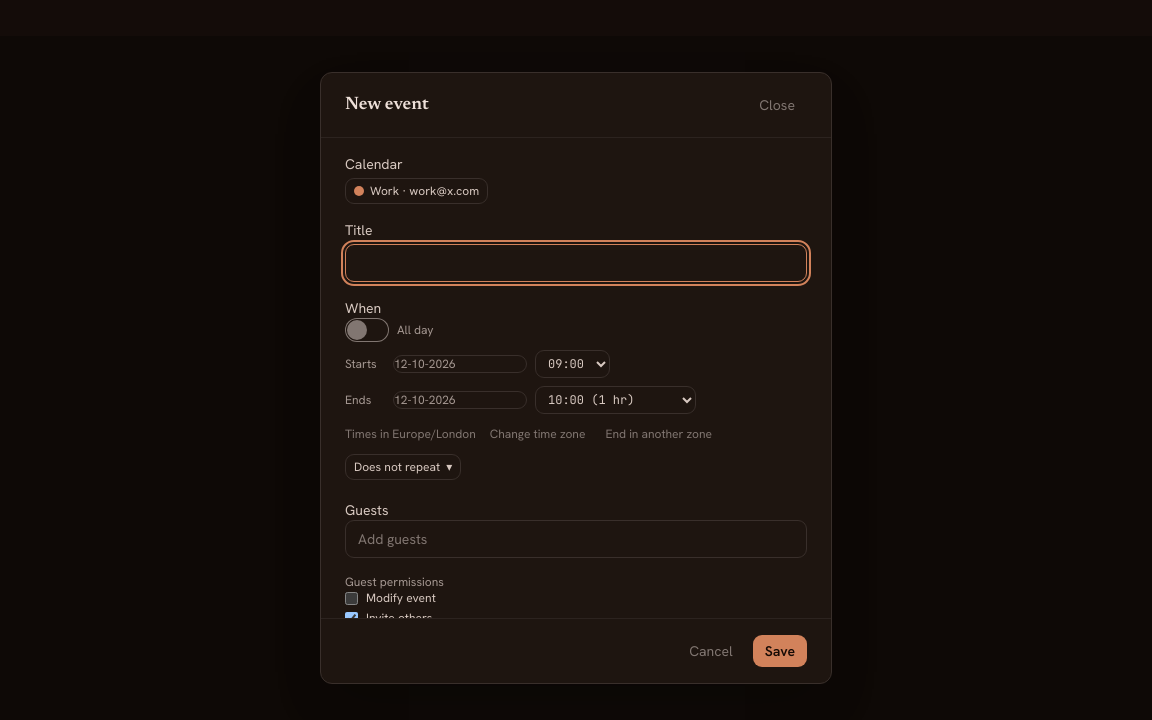
Test case: NewEventEditor › a handed-over range keeps its length through All day and back
Step 1. Click the switch named "All day" → (367, 330), box [345,318,389,342]
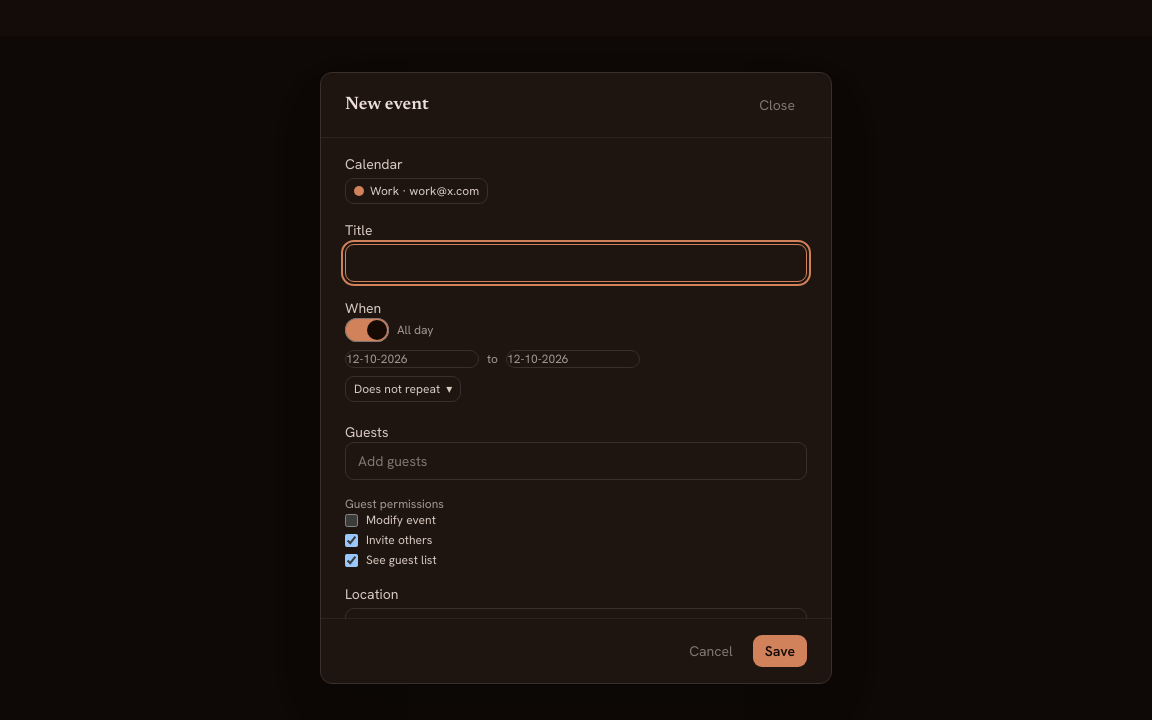
Step 2. Click the switch named "All day" → (367, 330), box [345,318,389,342]
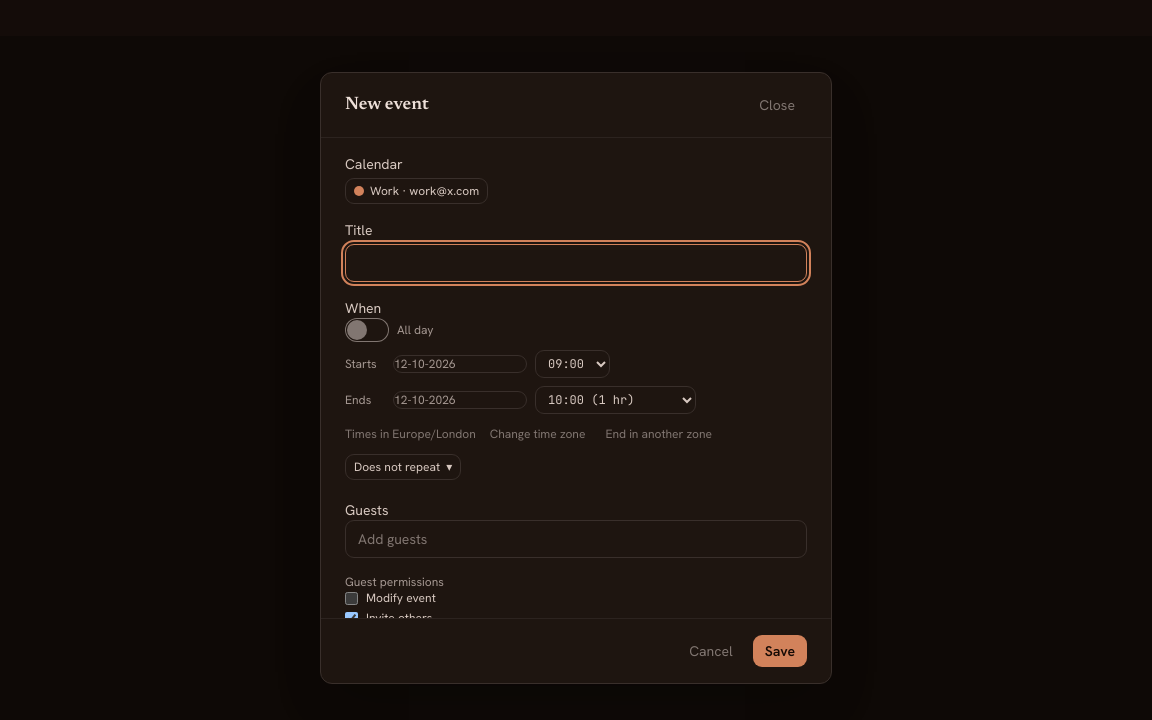
Now the dropdown named "Start time" shows "09:00", box [535,350,610,378]
Now the dropdown named "End time" shows "10:00 (1 hr)", box [535,386,696,414]
